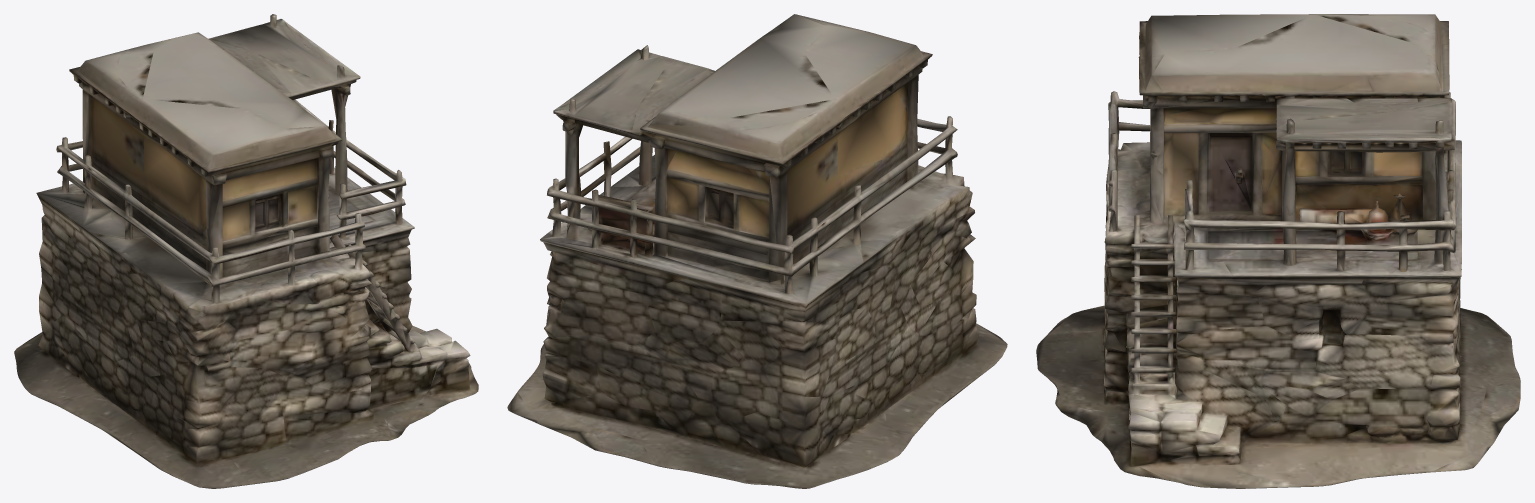
Rendered from house_06.glb.
3 renders of one model, left to right at view 1: azimuth 30°, elevation 25°; view 2: azimuth 150°, elevation 25°; view 3: azimuth 270°, elevation 25°, orthographic. The views are drawn at different scales.
Visible parts, largest first — view 1: node_0; view 2: node_0; view 3: node_0.
Part boxes in pixels (left/top/right/bottom): node_0: left=14, top=14, right=478, bottom=488; node_0: left=507, top=14, right=1007, bottom=488; node_0: left=1036, top=14, right=1520, bottom=488.
Bounding box in the file's own units: 0.8364 × 0.6561 × 0.8709.
1 material, 1 textured.
